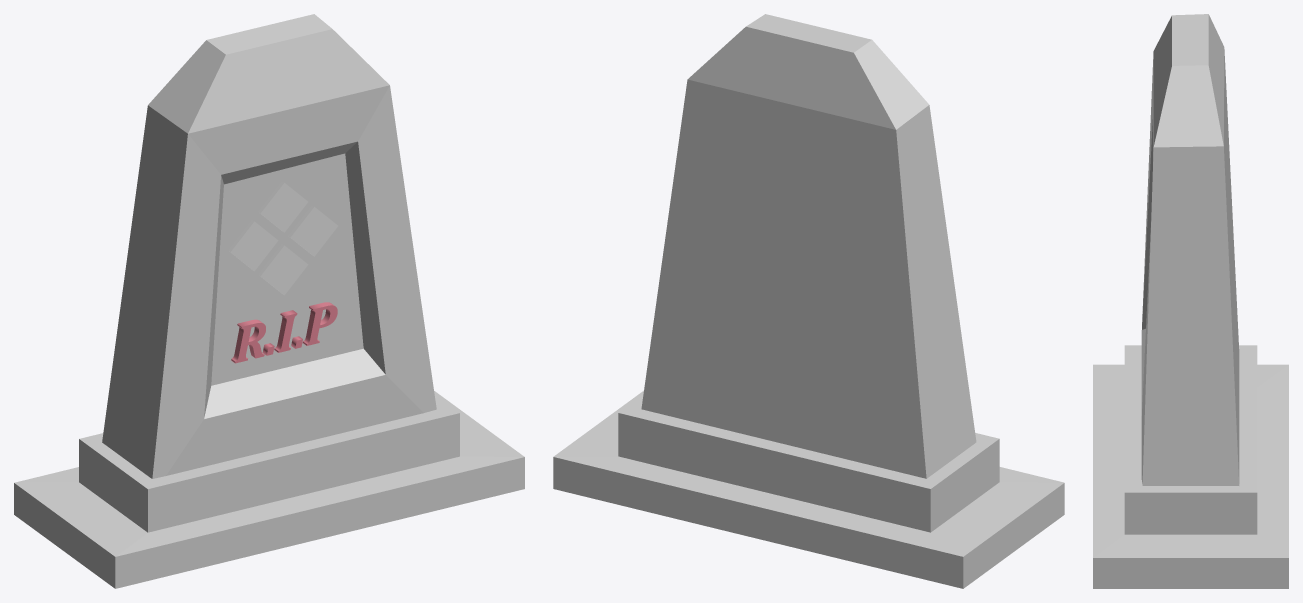
The model's file is grave.gltf.
3 renders of one model, left to right at view 1: azimuth 30°, elevation 25°; view 2: azimuth 150°, elevation 25°; view 3: azimuth 270°, elevation 25°, orthographic. The views are drawn at different scales.
Visible parts, largest first — view 1: 立方体; view 2: 立方体; view 3: 立方体.
Part boxes in pixels (x1,y1,x2,y2): 立方体: (14, 14, 524, 588); 立方体: (553, 14, 1064, 588); 立方体: (1093, 14, 1288, 588).
Size of the model in its own units: 2.38 by 2.6 by 1.02.
